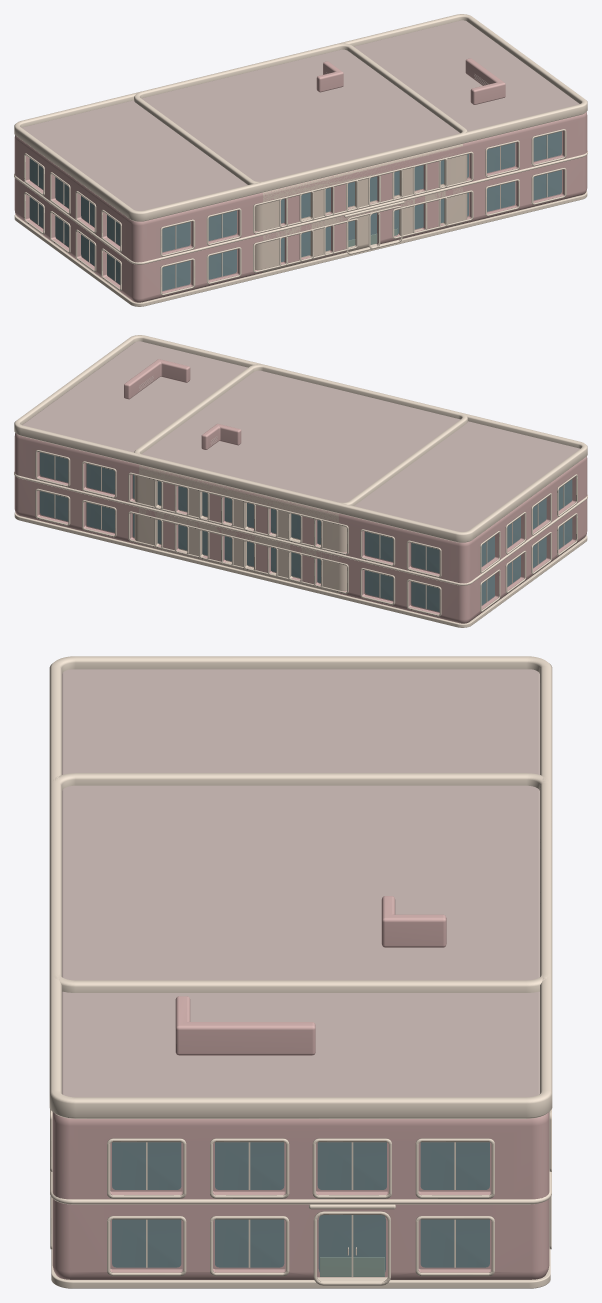
File: city-buildings-v58.glb
3 renders of one model, top to bottom at view 1: azimuth 30°, elevation 25°; view 2: azimuth 150°, elevation 25°; view 3: azimuth 270°, elevation 25°, orthographic. The views are drawn at different scales.
Visible parts, largest first — view 1: city-building-03__CITY58_Roof, city-building-03__CITY58_Blush, city-building-03__CITY58_Trim, city-building-03__CITY58_Glazing, city-building-01__CITY58_Trim, city-building-01__CITY58_Roof, city-building-01__CITY58_Cream, city-building-01__CITY58_Glazing, city-building-02__CITY58_Blush; view 2: city-building-03__CITY58_Roof, city-building-03__CITY58_Blush, city-building-03__CITY58_Trim, city-building-03__CITY58_Glazing, city-building-01__CITY58_Trim, city-building-01__CITY58_Cream, city-building-01__CITY58_Roof, city-building-01__CITY58_Glazing, city-building-02__CITY58_Blush; view 3: city-building-03__CITY58_Roof, city-building-01__CITY58_Roof, city-building-03__CITY58_Blush, city-building-03__CITY58_Trim, city-building-03__CITY58_Glazing, city-building-01__CITY58_Trim, city-building-02__CITY58_Blush, city-building-03__CITY58_Accent.
Part boxes in pixels (x1,y1,x2,y2): city-building-03__CITY58_Roof: (22,20,579,210); city-building-03__CITY58_Blush: (14,58,587,302); city-building-03__CITY58_Trim: (14,14,587,306); city-building-03__CITY58_Glazing: (29,131,561,290); city-building-01__CITY58_Trim: (134,43,467,276); city-building-01__CITY58_Roof: (201,49,459,181); city-building-01__CITY58_Cream: (255,144,467,272); city-building-01__CITY58_Glazing: (281,160,442,261); city-building-02__CITY58_Blush: (316,61,343,92); city-building-03__CITY58_Roof: (22,341,579,531); city-building-03__CITY58_Blush: (14,359,587,623); city-building-03__CITY58_Trim: (14,335,587,627); city-building-03__CITY58_Glazing: (40,452,572,611); city-building-01__CITY58_Trim: (134,364,467,596); city-building-01__CITY58_Cream: (134,465,346,593); city-building-01__CITY58_Roof: (142,370,381,501); city-building-01__CITY58_Glazing: (159,481,320,582); city-building-02__CITY58_Blush: (201,424,241,449); city-building-03__CITY58_Roof: (62,669,539,1097); city-building-01__CITY58_Roof: (62,786,539,980); city-building-03__CITY58_Blush: (52,996,549,1279); city-building-03__CITY58_Trim: (49,656,552,1288); city-building-03__CITY58_Glazing: (112,1142,489,1272); city-building-01__CITY58_Trim: (49,773,552,992); city-building-02__CITY58_Blush: (381,896,446,947); city-building-03__CITY58_Accent: (320,1257,384,1276).
Bounding box in the file's own units: 31.5 × 6.9 × 15.
